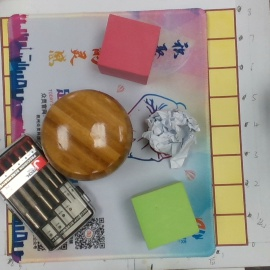chess: (40, 89, 133, 181)
